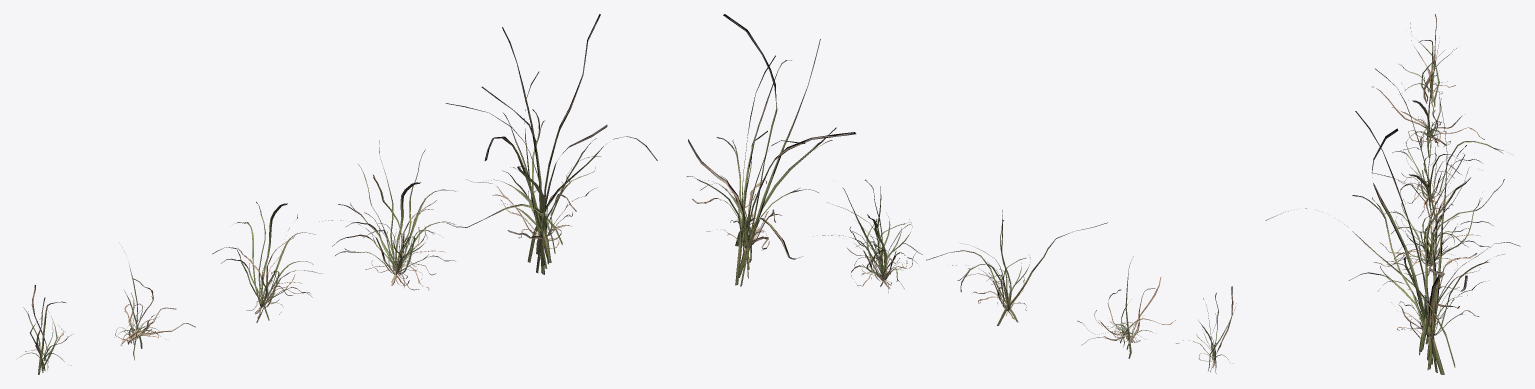
File: veg_grassA.glb
3 views of the same model, side by side, from view 1: azimuth 30°, elevation 25°; view 2: azimuth 150°, elevation 25°; view 3: azimuth 270°, elevation 25° (orthographic). The views are drawn at different scales.
Parts seen in each view (by area): view 1: VEG_grassA; view 2: VEG_grassA; view 3: VEG_grassA.
Part boxes in pixels (x1,y1,x2,y2): VEG_grassA: (17, 14, 657, 374); VEG_grassA: (687, 14, 1236, 373); VEG_grassA: (1265, 14, 1520, 374).
Size of the model in its own units: 1.31 by 0.5665 by 0.4935.
Materials: 1 (1 with a texture image).
